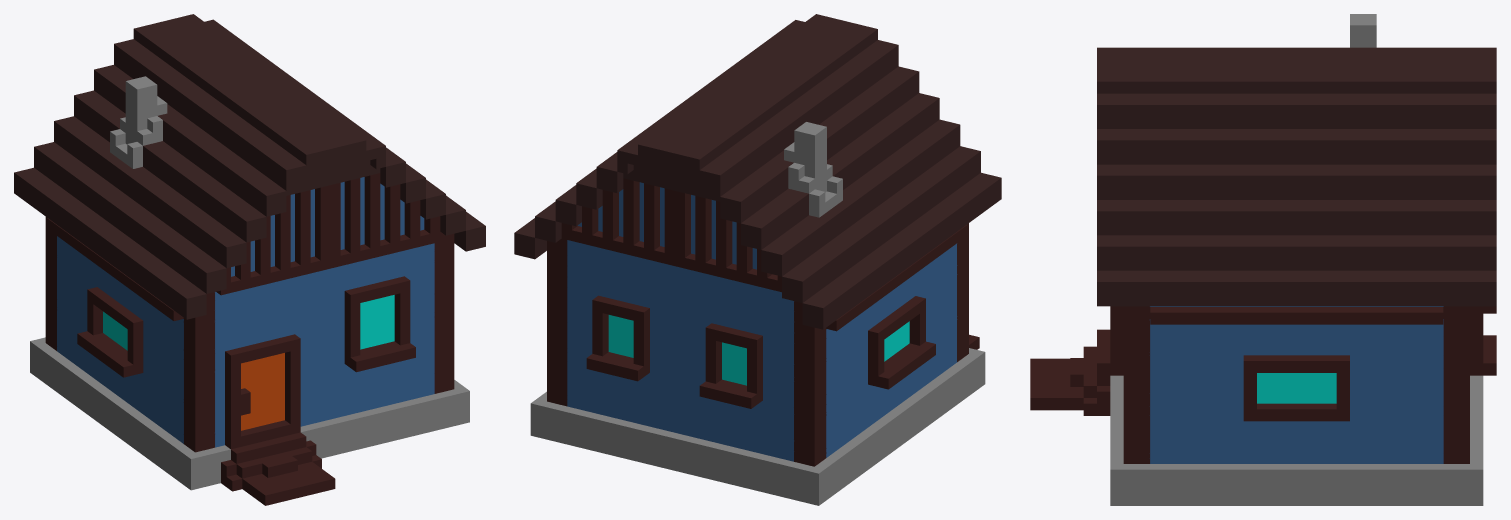
The model's file is House_1.fbx.
3 renders of one model, left to right at view 1: azimuth 30°, elevation 25°; view 2: azimuth 150°, elevation 25°; view 3: azimuth 270°, elevation 25°, orthographic. The views are drawn at different scales.
Parts seen in each view (by area): view 1: House_1; view 2: House_1; view 3: House_1.
Part boxes in pixels (bbox=[...]): House_1: bbox=[14, 14, 485, 505]; House_1: bbox=[514, 14, 1001, 505]; House_1: bbox=[1030, 14, 1496, 505].
Bounding box in the file's own units: 30 × 30 × 35.
1 material, 1 textured.
